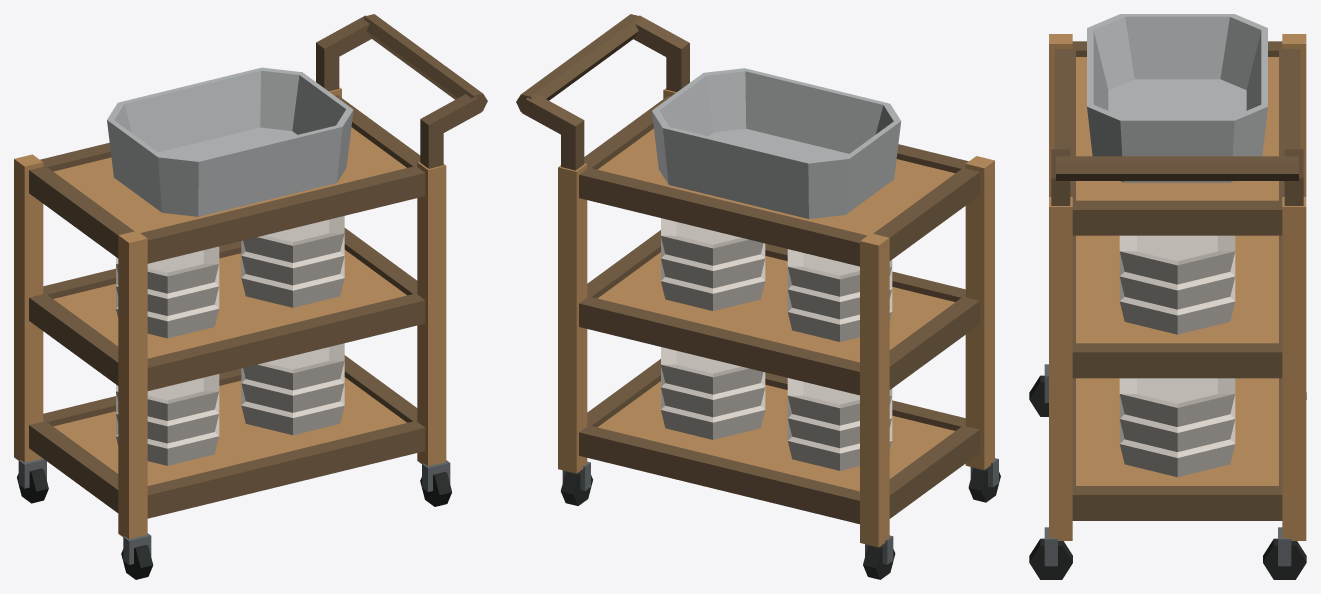
File: bus-tub-trolley-a37f63.glb
The picture shows the model from 3 angles, left to right: view 1: azimuth 30°, elevation 25°; view 2: azimuth 150°, elevation 25°; view 3: azimuth 270°, elevation 25°; orthographic projection. The views are drawn at different scales.
Parts seen in each view (by area): view 1: trolley-body, tub, load-lower, load-upper, wheel-rr, wheel-fr, wheel-fl; view 2: trolley-body, tub, load-lower, load-upper, wheel-rl, wheel-rr, wheel-fr; view 3: trolley-body, tub, load-upper, load-lower, wheel-fl, wheel-rl, wheel-fr, castor-fl, castor-rl.
Boxes of the visible parts, bbox=[...] form: trolley-body: bbox=[14, 14, 487, 539]; tub: bbox=[107, 67, 353, 216]; load-lower: bbox=[116, 343, 344, 465]; load-upper: bbox=[116, 216, 344, 338]; wheel-rr: bbox=[17, 468, 48, 503]; wheel-fr: bbox=[121, 545, 153, 579]; wheel-fl: bbox=[420, 472, 451, 506]; trolley-body: bbox=[516, 14, 994, 547]; tub: bbox=[652, 68, 901, 218]; load-lower: bbox=[661, 347, 892, 470]; load-upper: bbox=[661, 218, 892, 341]; wheel-rl: bbox=[560, 471, 592, 505]; wheel-rr: bbox=[863, 545, 895, 579]; wheel-fr: bbox=[968, 468, 1000, 502]; trolley-body: bbox=[1049, 34, 1306, 540]; tub: bbox=[1087, 14, 1267, 182]; load-upper: bbox=[1119, 235, 1235, 334]; load-lower: bbox=[1119, 378, 1235, 477]; wheel-fl: bbox=[1029, 538, 1072, 579]; wheel-rl: bbox=[1263, 538, 1306, 579]; wheel-fr: bbox=[1029, 375, 1048, 416]; castor-fl: bbox=[1044, 527, 1057, 566]; castor-rl: bbox=[1278, 527, 1291, 566].
Bounding box in the file's own units: 0.986 × 1.02 × 0.582.
